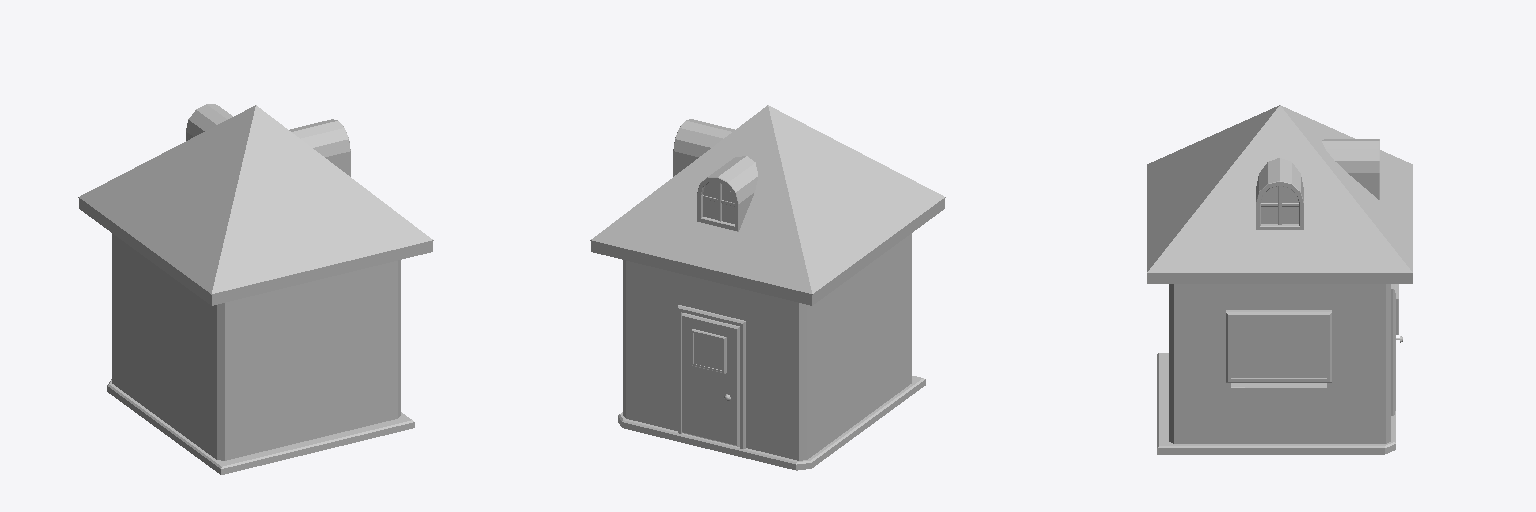
The model's file is house low poly.obj.
3 views of the same model, side by side, from view 1: azimuth 30°, elevation 25°; view 2: azimuth 150°, elevation 25°; view 3: azimuth 270°, elevation 25° (orthographic).
Parts seen in each view (by area): view 1: polySurface135; view 2: polySurface135; view 3: polySurface135.
Boxes of the visible parts, box(x1,y1,x2,y2) form: polySurface135: box(78, 104, 433, 474); polySurface135: box(590, 105, 945, 470); polySurface135: box(1147, 105, 1412, 454).
Bounding box in the file's own units: 2631 × 3418 × 2730.